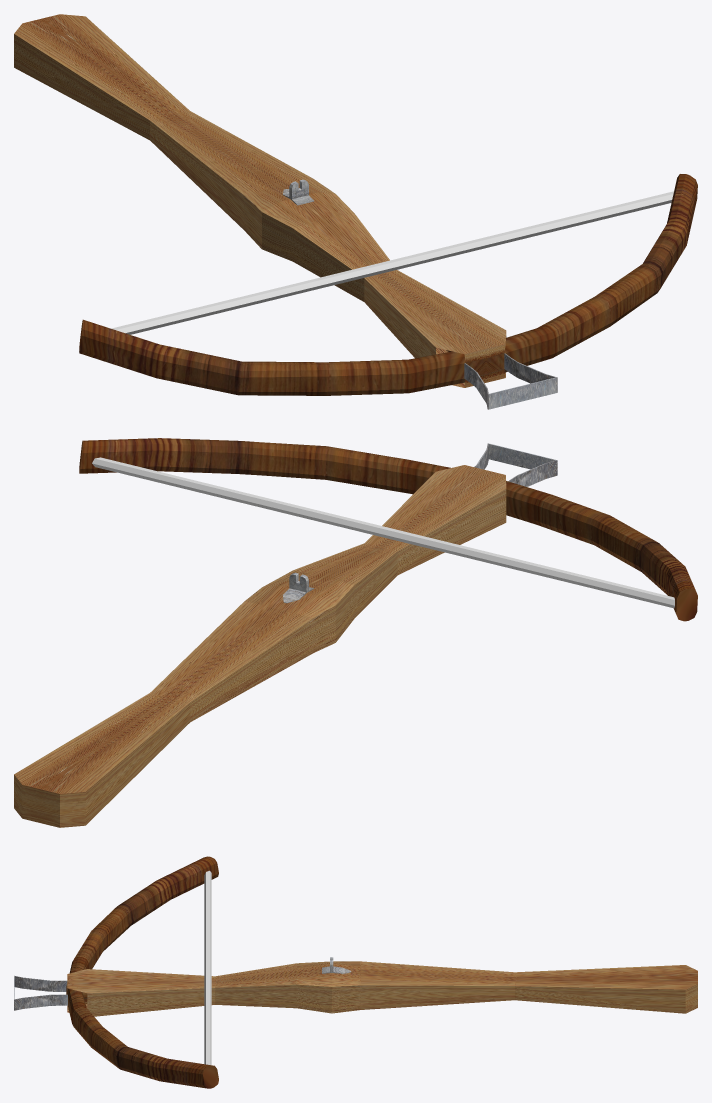
File: Crossbow.glb
The picture shows the model from 3 angles, top to bottom: view 1: azimuth 30°, elevation 25°; view 2: azimuth 150°, elevation 25°; view 3: azimuth 270°, elevation 25°; orthographic projection. The views are drawn at different scales.
Parts seen in each view (by area): view 1: Crossbow, Bow; view 2: Crossbow, Bow; view 3: Crossbow, Bow.
Boxes of the visible parts, x1,y1,x2,y2 form: Crossbow: (14,14,697,409); Bow: (111,191,673,334); Crossbow: (14,438,697,827); Bow: (92,457,674,608); Crossbow: (14,856,697,1088); Bow: (204,870,211,1065).
Bounding box in the file's own units: 9.92 × 1 × 13.4.
2 materials, 2 textured.
